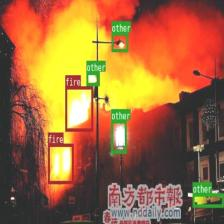fire: (65, 86, 93, 131), (47, 144, 74, 184)
